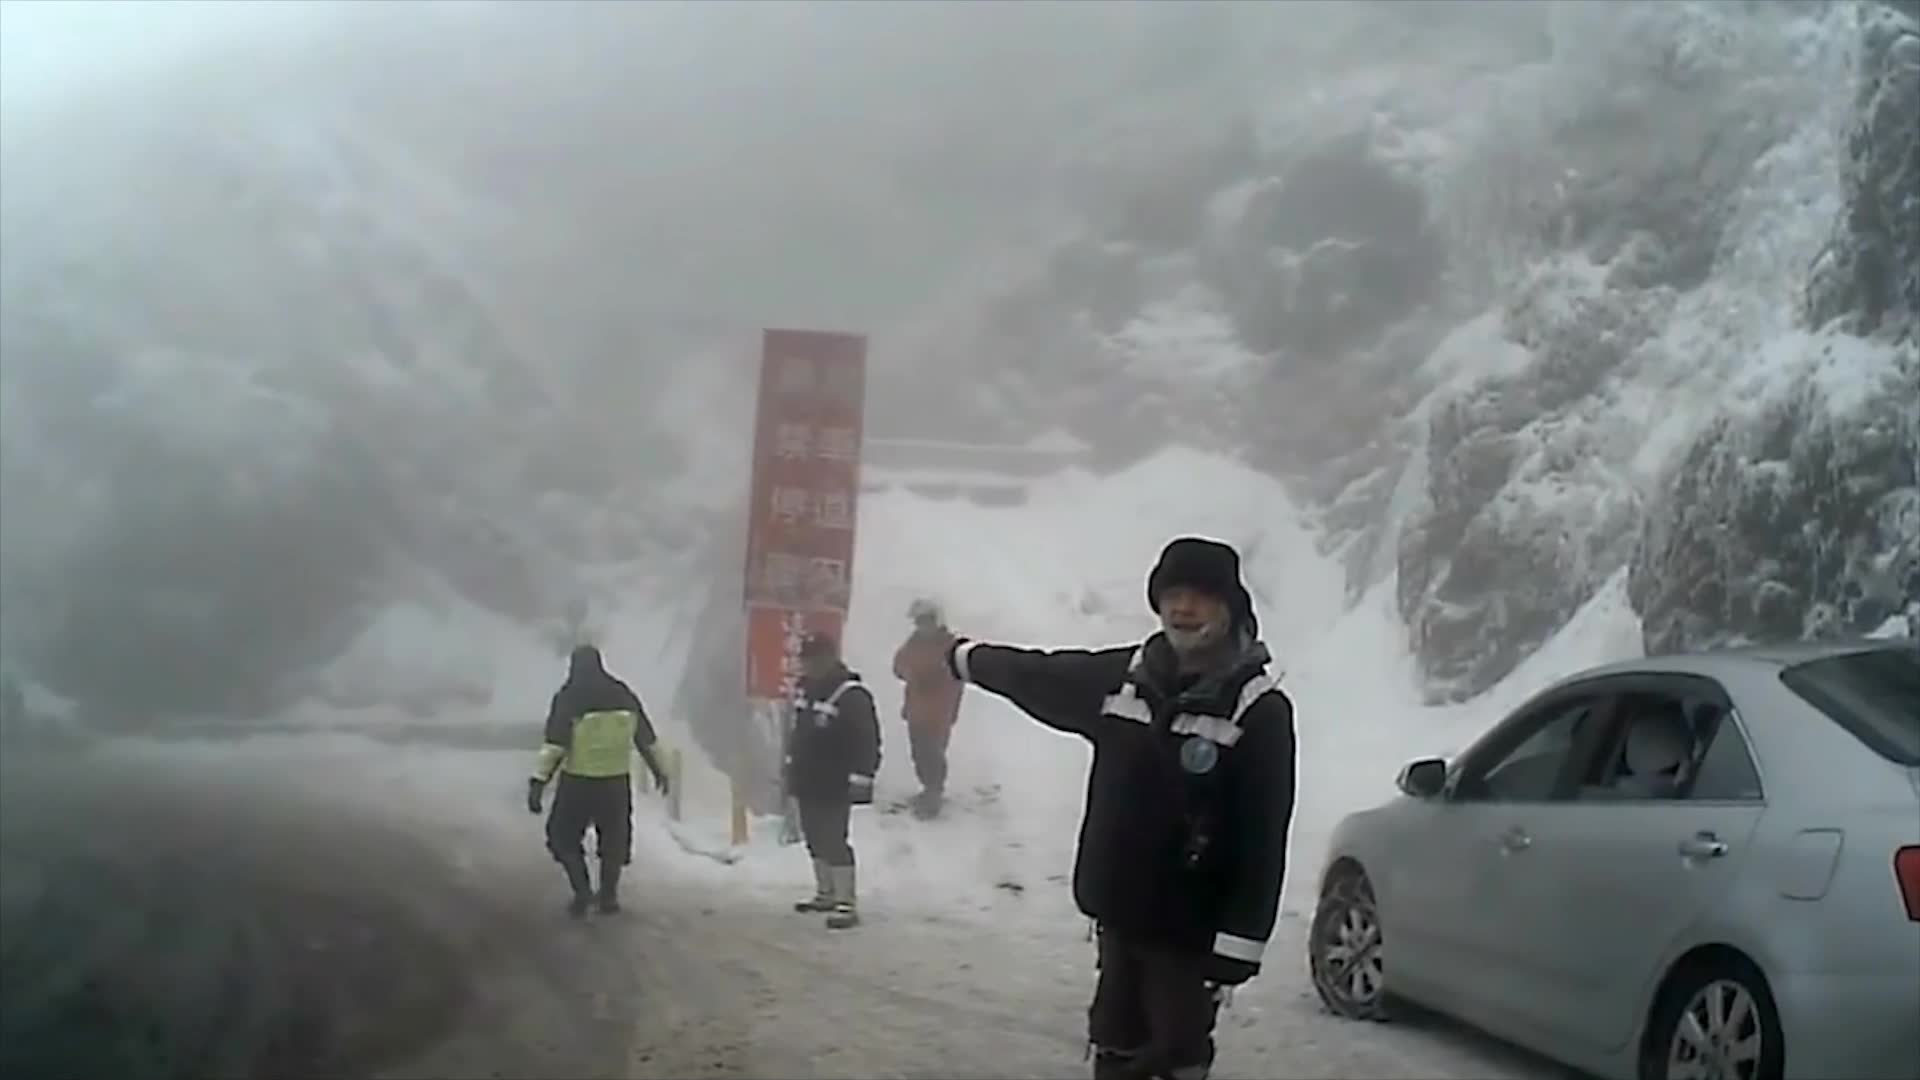pedestrian: (950, 537, 1300, 1080), (529, 649, 680, 918), (786, 630, 883, 931), (897, 597, 983, 822)
vehicle: (1312, 638, 1920, 1080)
